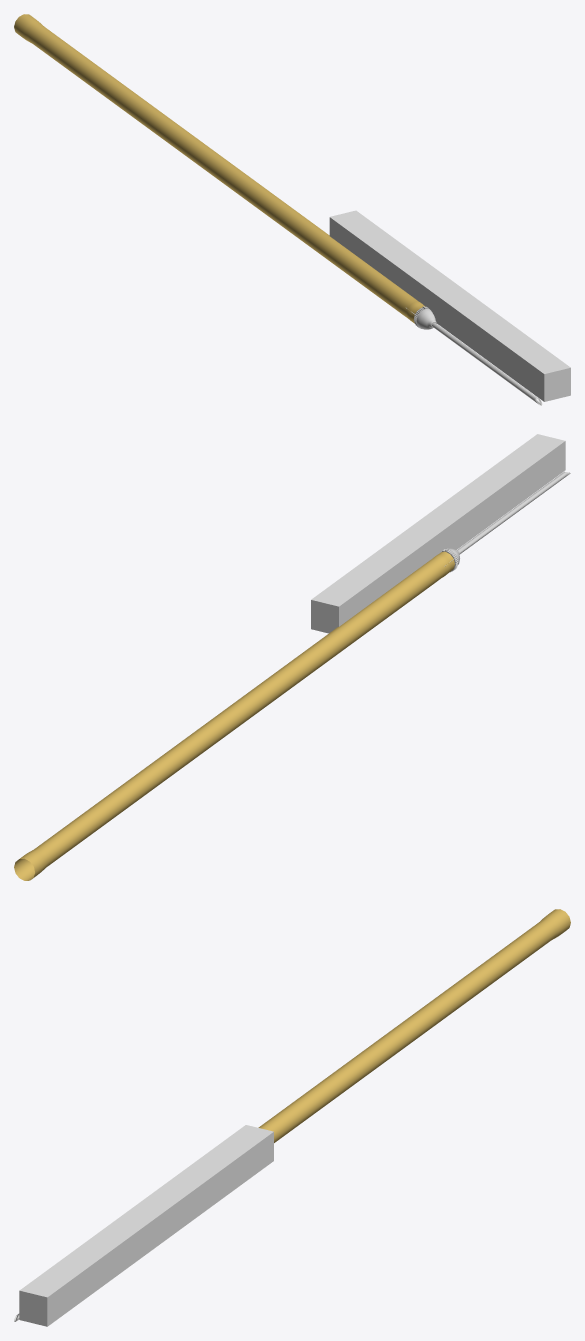
File: 胸腔穿刺针.FBX
3 renders of one model, top to bottom at view 1: azimuth 30°, elevation 25°; view 2: azimuth 150°, elevation 25°; view 3: azimuth 330°, elevation 25°, orthographic. The views are drawn at different scales.
Visible parts, largest first — view 1: Box001, Puncture_rubber_tube, T_puncture_needle; view 2: Box001, Puncture_rubber_tube, T_puncture_needle; view 3: Box001, Puncture_rubber_tube.
Part boxes in pixels (bbox=[...]): Box001: bbox=[329, 210, 570, 401]; Puncture_rubber_tube: bbox=[14, 14, 425, 323]; T_puncture_needle: bbox=[414, 306, 542, 405]; Box001: bbox=[311, 434, 565, 633]; Puncture_rubber_tube: bbox=[14, 551, 454, 880]; T_puncture_needle: bbox=[442, 471, 570, 572]; Box001: bbox=[19, 1125, 273, 1326]; Puncture_rubber_tube: bbox=[258, 909, 570, 1142].
Size of the model in its own units: 1.51 by 1.38 by 33.66.
